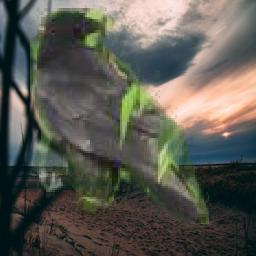Crow: (31, 8, 210, 224)
